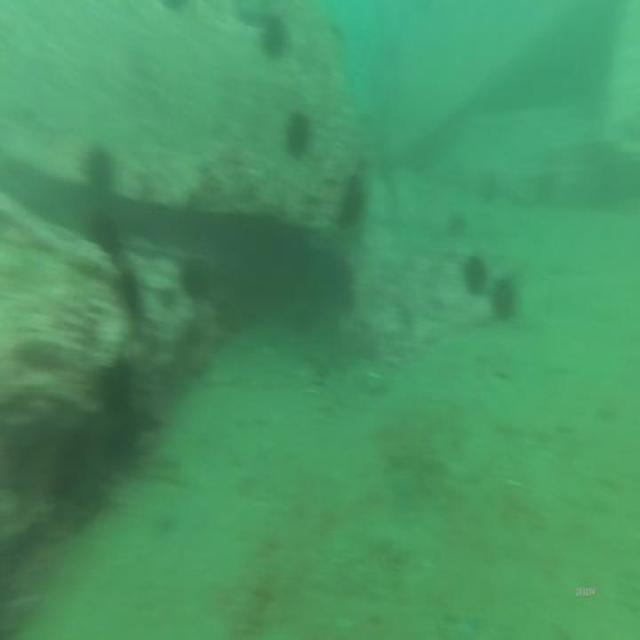echinus: (97, 354, 143, 466), (81, 142, 116, 198), (339, 172, 367, 237), (461, 242, 489, 305), (493, 272, 523, 328), (281, 109, 313, 161), (180, 252, 212, 304), (260, 14, 290, 62)
